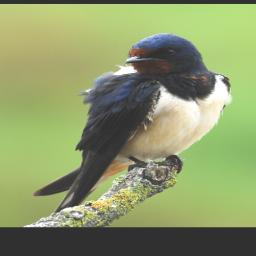Swallow: (32, 32, 234, 216)
